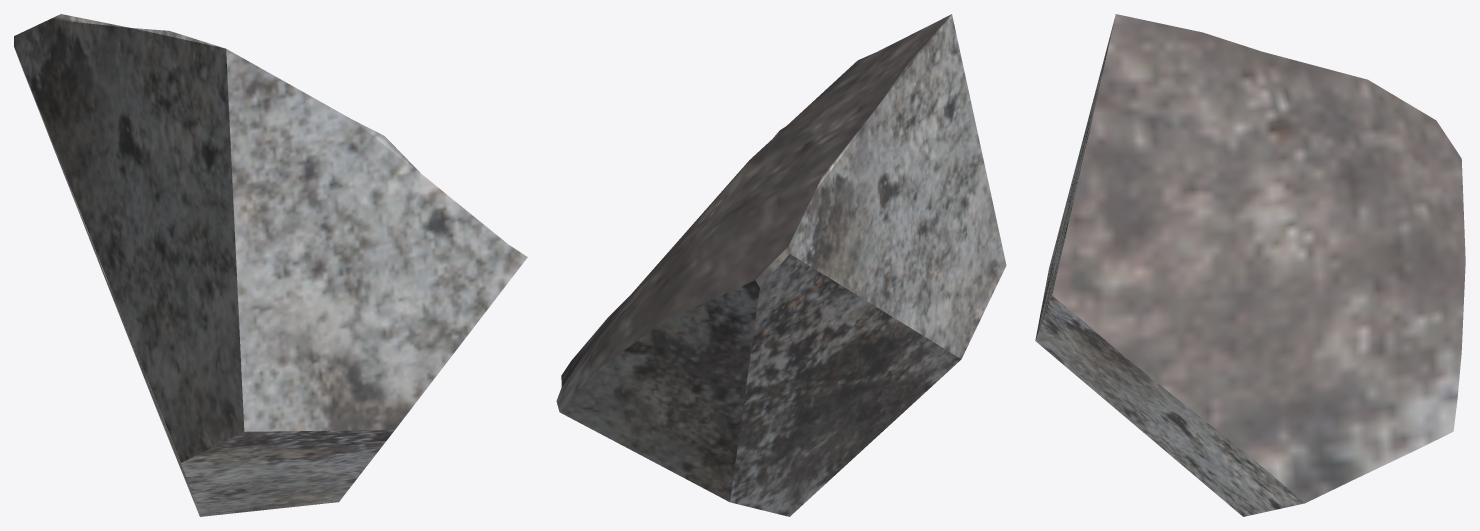
File: Asteroid_Large_001_02_010_03_007.fbx
The picture shows the model from 3 angles, left to right: view 1: azimuth 30°, elevation 25°; view 2: azimuth 150°, elevation 25°; view 3: azimuth 270°, elevation 25°; orthographic projection. The views are drawn at different scales.
Visible parts, largest first — view 1: Asteroid_Large_001_02_010_03_007; view 2: Asteroid_Large_001_02_010_03_007; view 3: Asteroid_Large_001_02_010_03_007.
Part boxes in pixels (x1,y1,x2,y2): Asteroid_Large_001_02_010_03_007: (14, 14, 527, 516); Asteroid_Large_001_02_010_03_007: (556, 14, 1006, 516); Asteroid_Large_001_02_010_03_007: (1035, 14, 1465, 516).
Size of the model in its own units: 6.34 by 8.7 by 7.72.
